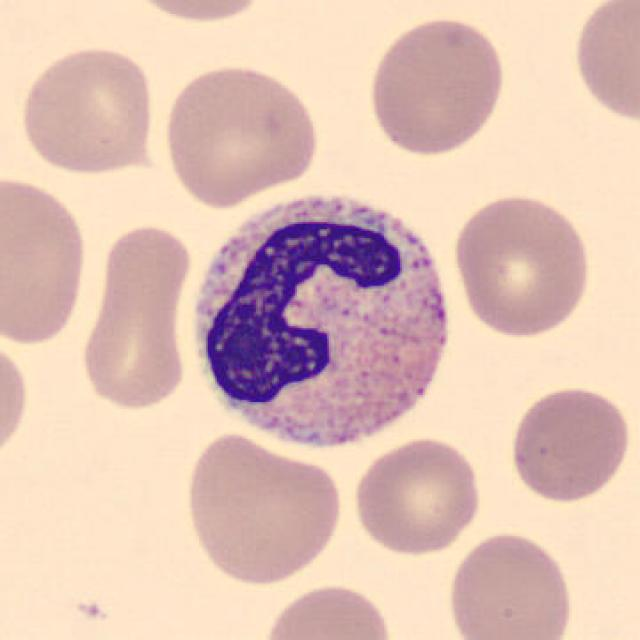Neutrophil: (180, 176, 466, 469)
RBC: (179, 428, 345, 589), (158, 60, 322, 210), (78, 217, 196, 416), (448, 189, 594, 340), (362, 12, 508, 159), (16, 42, 160, 178), (348, 434, 486, 559), (0, 169, 92, 349), (505, 383, 635, 506), (442, 529, 578, 640), (569, 0, 638, 127), (258, 580, 396, 640), (0, 328, 32, 472), (117, 0, 275, 26)
